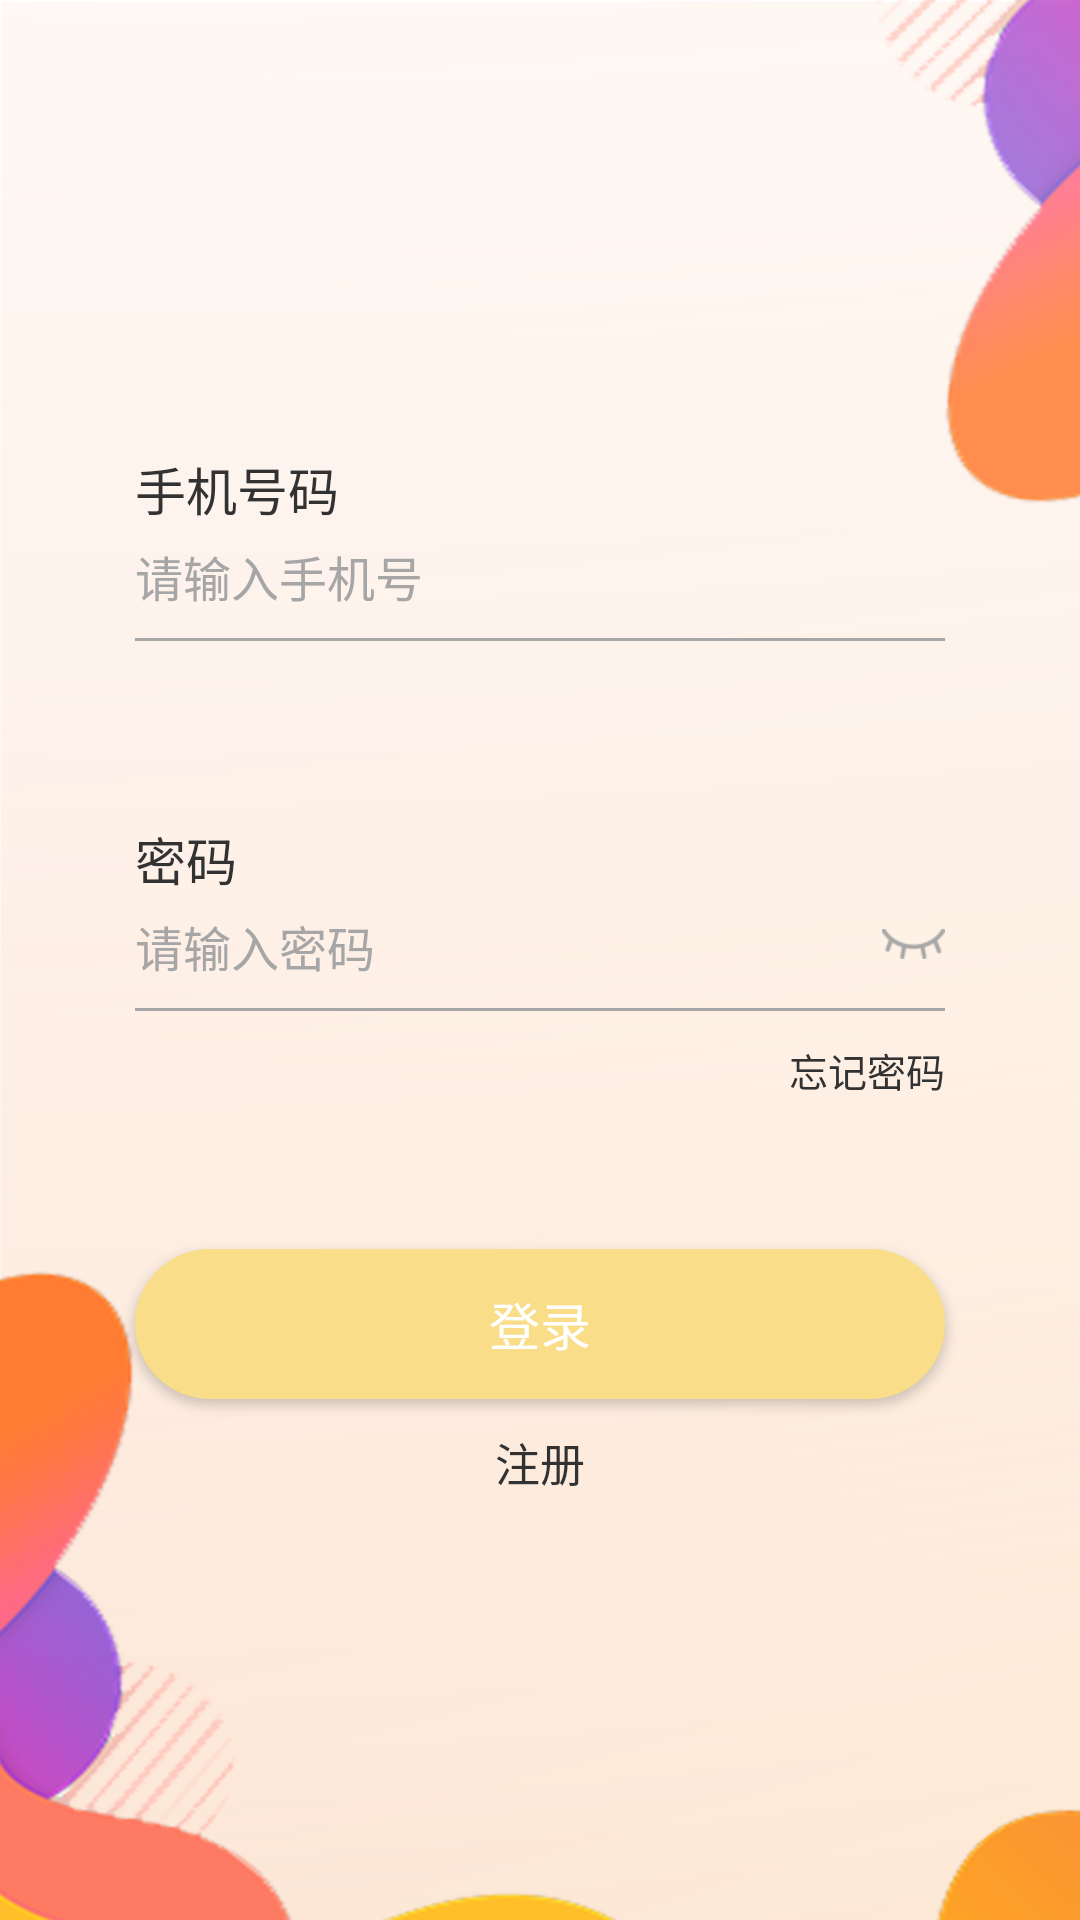

Named icons in this screenshot (1080w x 1920h) and their centers, [x,y]:
pwd hide: [913,944]
